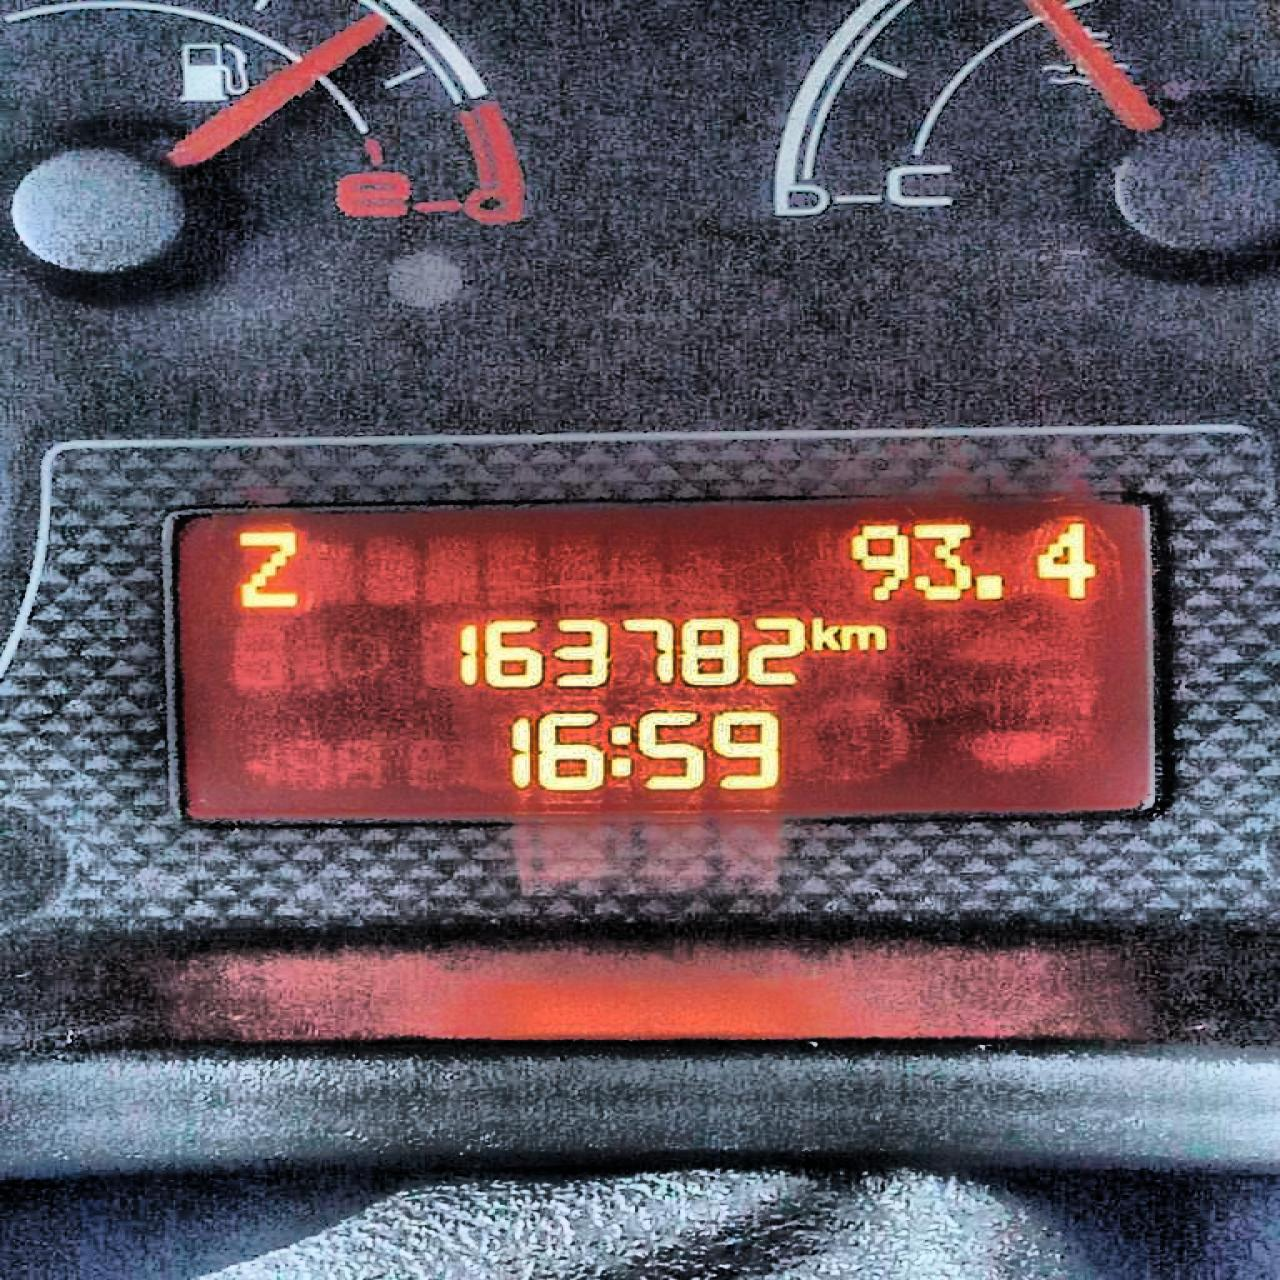-: (973, 572, 1009, 602)
1: (505, 712, 533, 792), (455, 618, 481, 688)
2: (747, 614, 805, 686)
3: (910, 515, 973, 604), (549, 615, 607, 690)
4: (1032, 520, 1105, 607)
5: (639, 709, 707, 790)
6: (537, 707, 601, 791), (483, 614, 542, 690)
7: (617, 614, 675, 685)
8: (676, 613, 742, 688)
9: (710, 710, 779, 791), (850, 520, 910, 604)
X: (230, 526, 305, 614), (601, 721, 635, 779), (840, 621, 890, 651), (809, 611, 838, 651)
odometer: (161, 482, 1166, 829)
